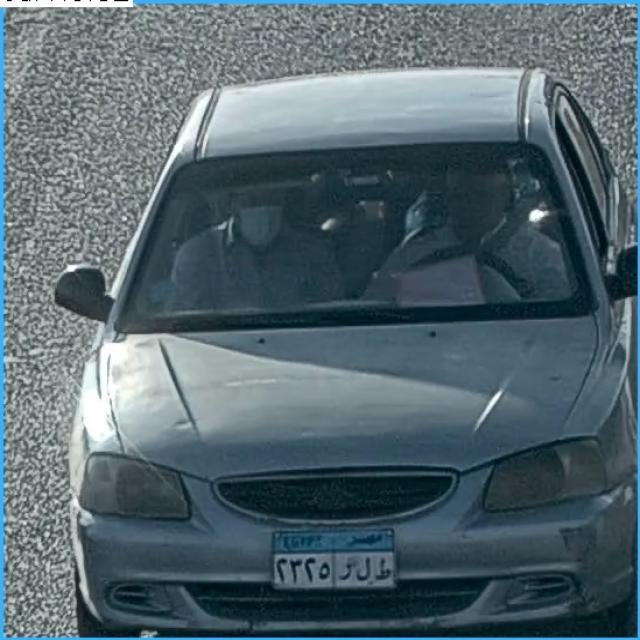windshield: (124, 155, 592, 315)
